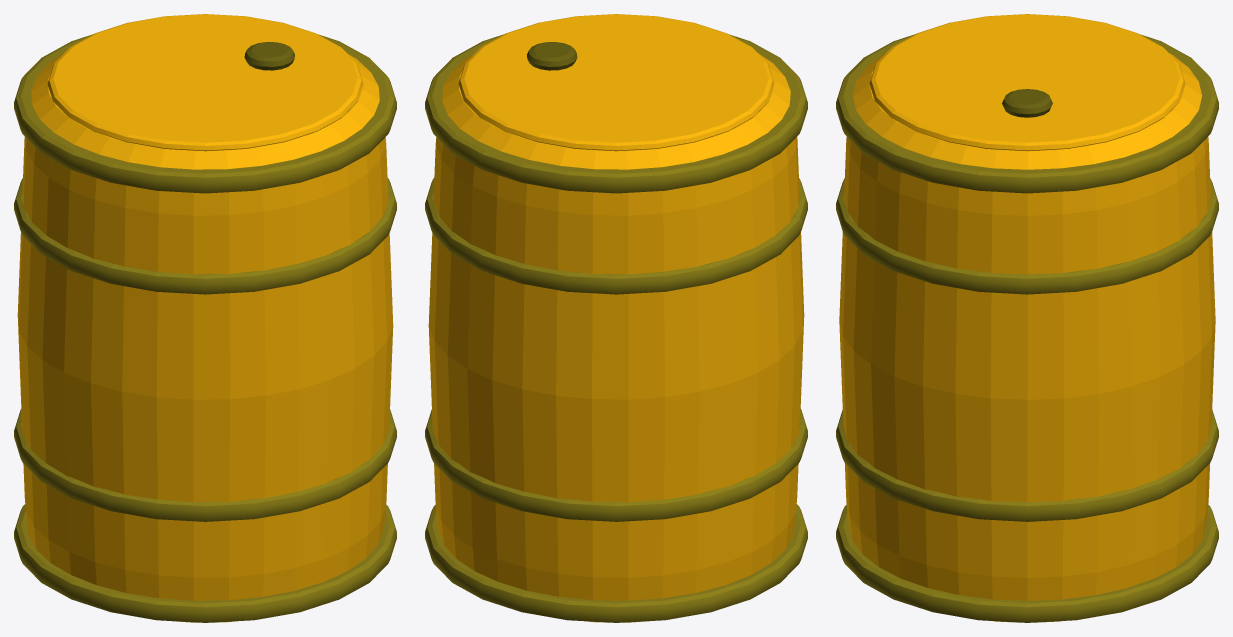
The model's file is MaintenanceDrum.fbx.
3 views of the same model, side by side, from view 1: azimuth 30°, elevation 25°; view 2: azimuth 150°, elevation 25°; view 3: azimuth 270°, elevation 25° (orthographic).
Visible parts, largest first — view 1: MaintenanceDrum; view 2: MaintenanceDrum; view 3: MaintenanceDrum.
Part boxes in pixels (<box>): MaintenanceDrum: <box>14,14,396,622</box>; MaintenanceDrum: <box>425,14,807,622</box>; MaintenanceDrum: <box>836,14,1218,622</box>.
Size of the model in its own units: 82.4 by 117 by 82.4.
